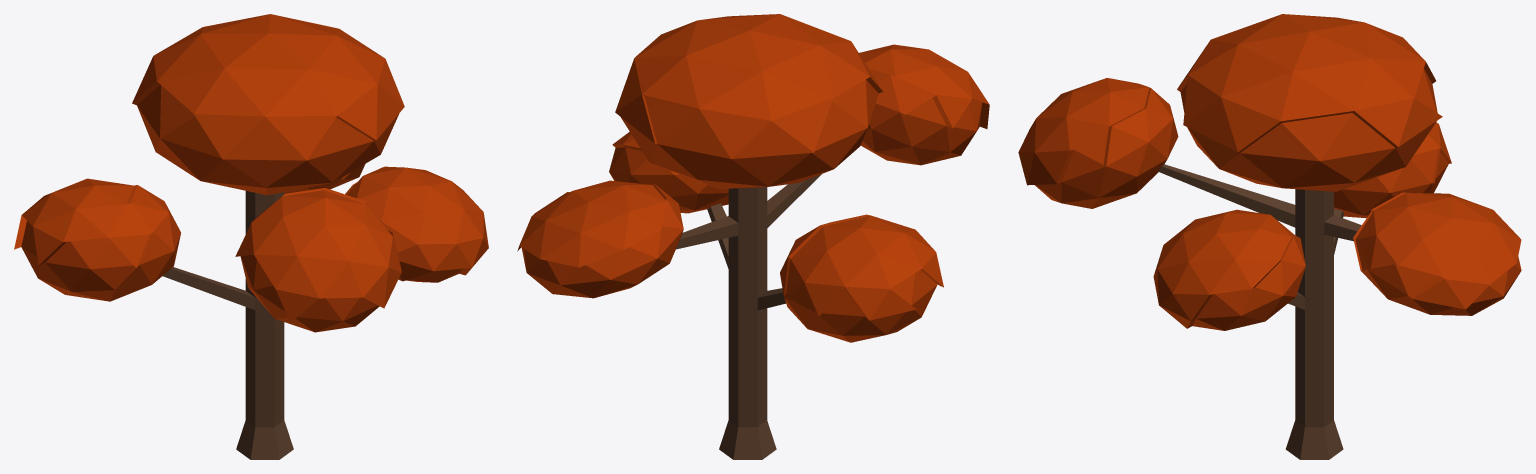
The model's file is orange_tree (1).fbx.
The picture shows the model from 3 angles, left to right: view 1: azimuth 30°, elevation 25°; view 2: azimuth 150°, elevation 25°; view 3: azimuth 270°, elevation 25°; orthographic projection.
Visible parts, largest first — view 1: Default Tree.007; view 2: Default Tree.007; view 3: Default Tree.007.
Part boxes in pixels (box(x1,y1,x2,y2)): Default Tree.007: box(14, 14, 488, 459); Default Tree.007: box(517, 14, 989, 459); Default Tree.007: box(1018, 14, 1521, 459).
Bounding box in the file's own units: 904 × 949 × 1034.
